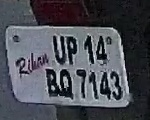1: (83, 34, 96, 68), (88, 70, 100, 100)
3: (110, 69, 124, 101)
4: (99, 70, 112, 103), (95, 35, 107, 66)
7: (75, 67, 88, 99)
B: (44, 67, 60, 99)
P: (66, 34, 80, 65)
Q: (59, 69, 75, 100)
U: (51, 34, 68, 66)
